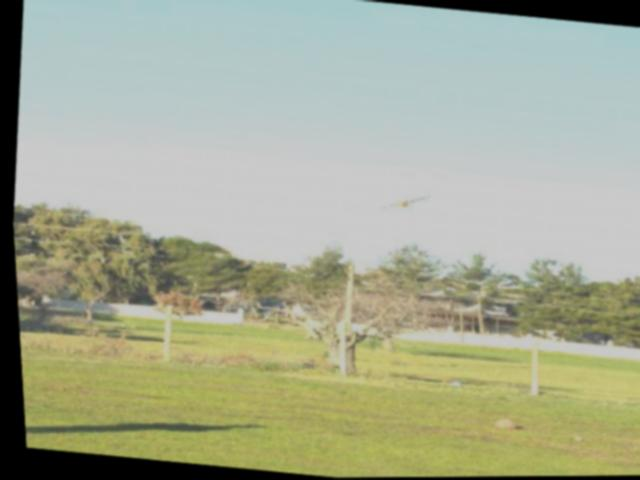iha: (375, 191, 430, 214)
